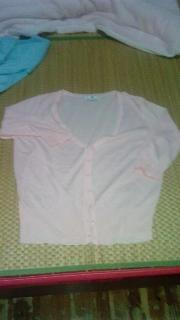long sleeve top: (0, 89, 180, 245)
